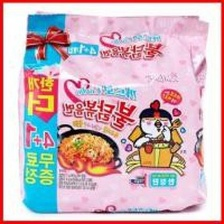snack: (11, 5, 217, 219)
